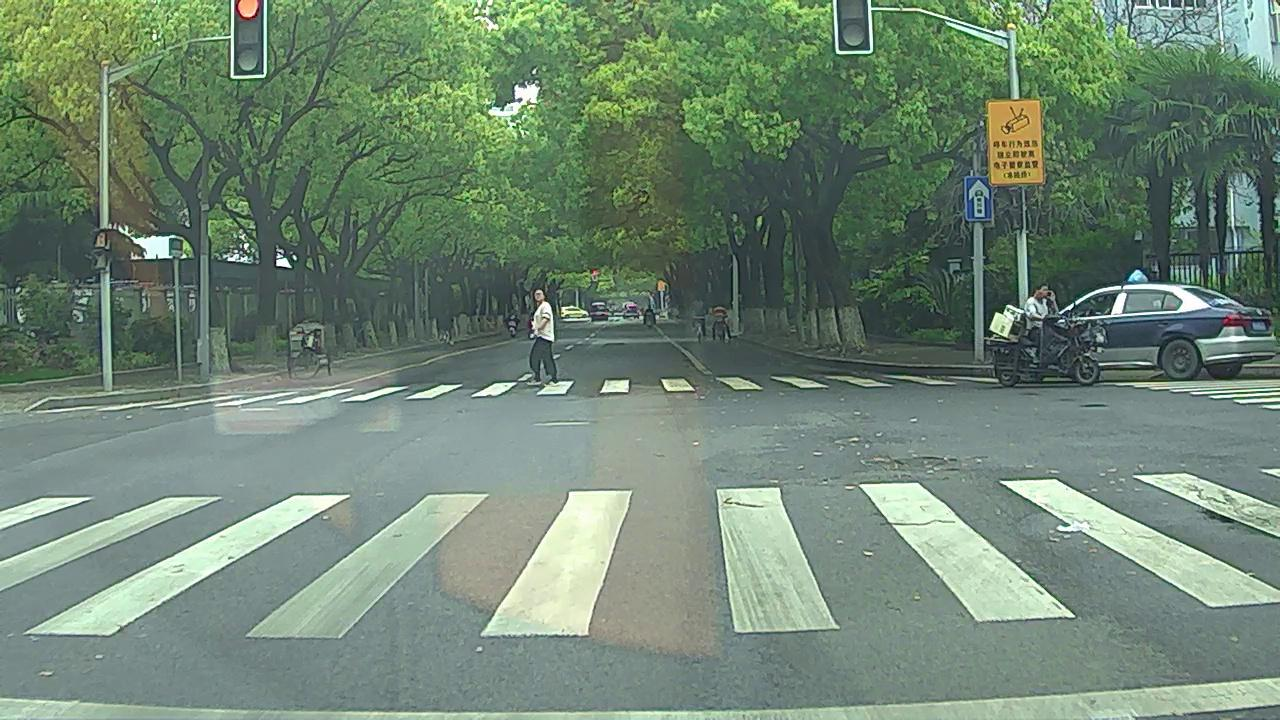traffic_light: (232, 1, 265, 75), (836, 1, 873, 54)
